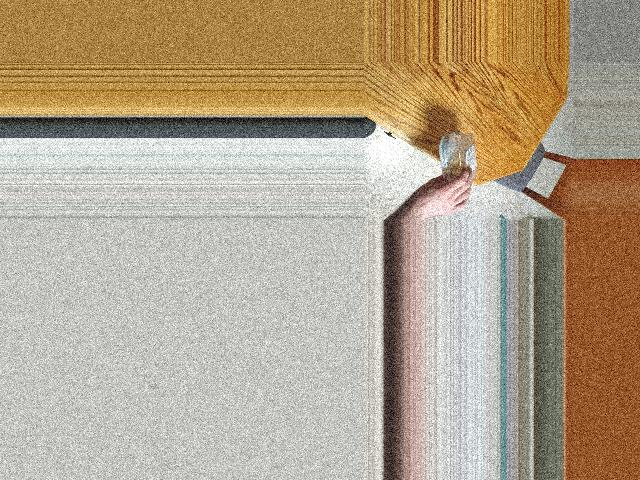cheese: (415, 132, 489, 186)
